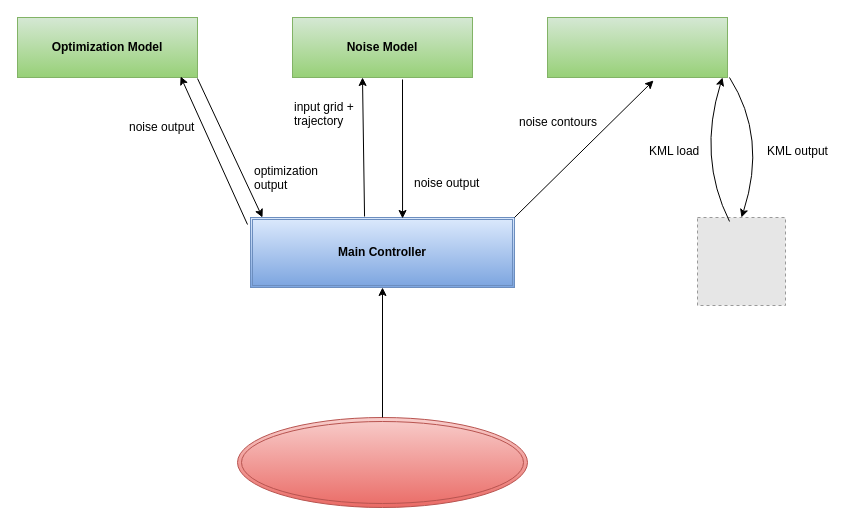
The diagram is 863 pixels wide and 525 high, and some of its shapes have lost their labels. Grey dashed boxes stand in for pictures. Each missing label, with the box of its shape:
Graphical User Interface: (236, 416, 528, 508)
Visualization Model: (546, 16, 728, 78)
